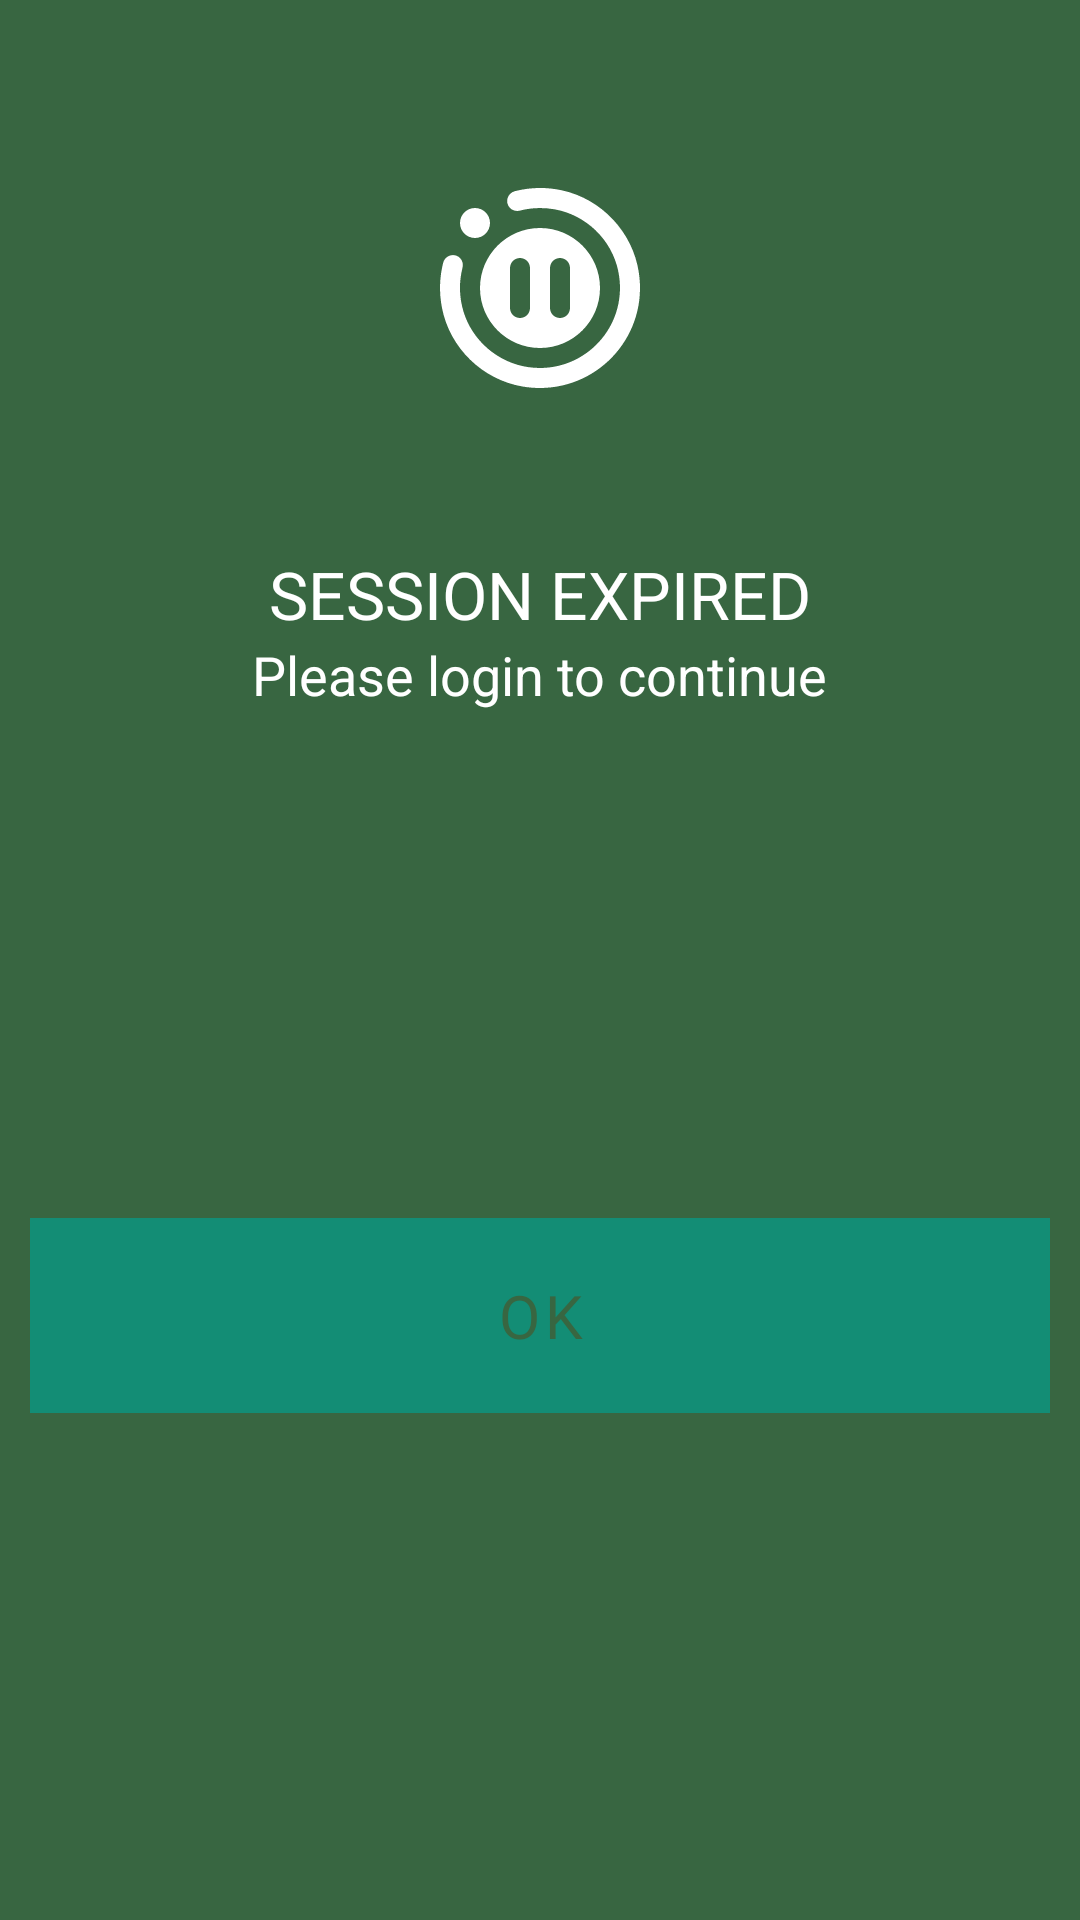

Icon bounding boxes for this 1080 x 1920 phone screenshot, format [x1, y1, x2, y2]:
motion photos pause: [440, 188, 640, 388]
